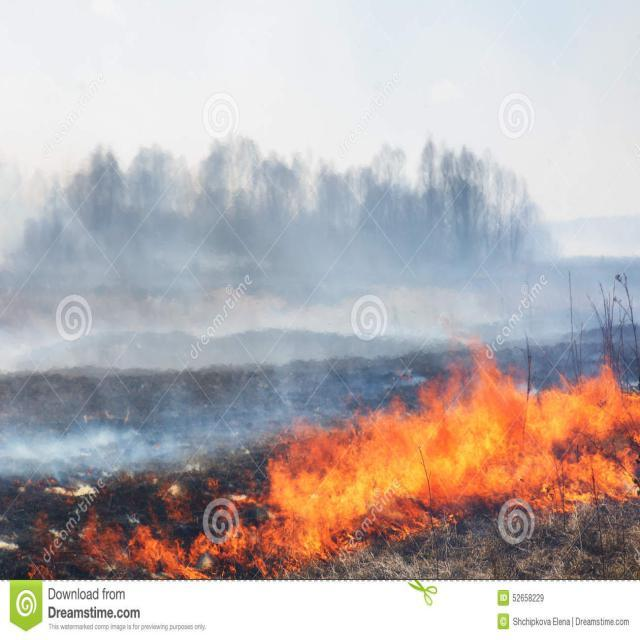Fire: (113, 357, 640, 574)
Smoke: (0, 0, 640, 479)
